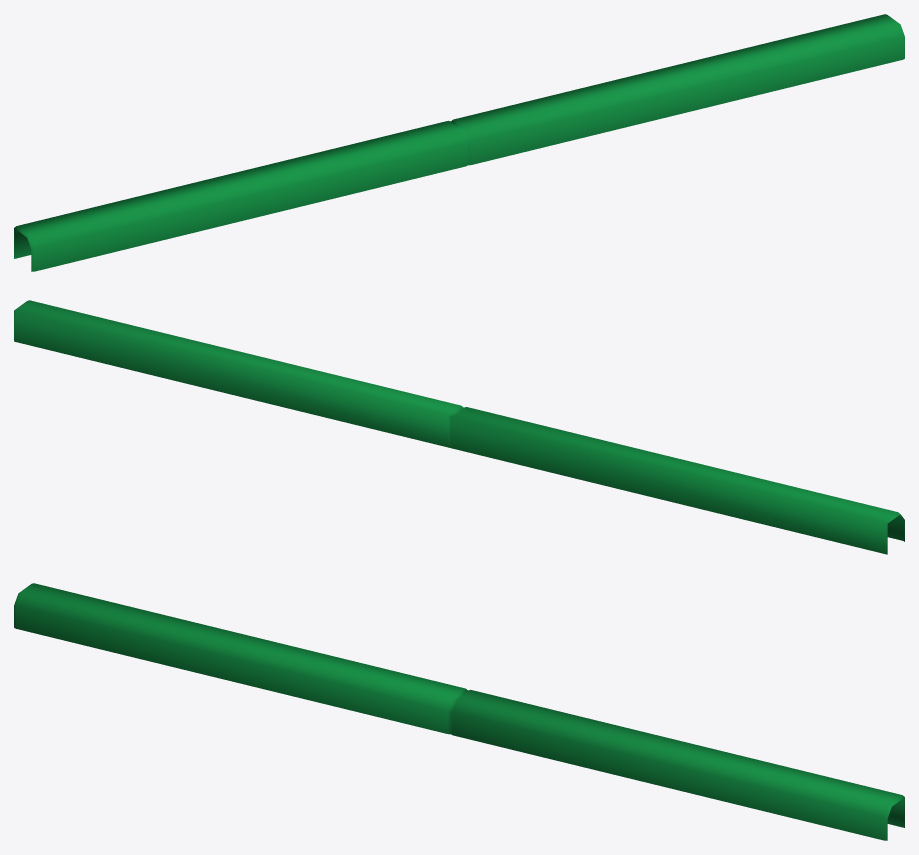
File: SM_Border_200.fbx
The picture shows the model from 3 angles, top to bottom: view 1: azimuth 30°, elevation 25°; view 2: azimuth 150°, elevation 25°; view 3: azimuth 330°, elevation 25°; orthographic projection.
Parts seen in each view (by area): view 1: SM_Border_200; view 2: SM_Border_200; view 3: SM_Border_200.
Boxes of the visible parts, x1,y1,x2,y2 form: SM_Border_200: [14, 14, 904, 271]; SM_Border_200: [14, 300, 904, 554]; SM_Border_200: [14, 583, 904, 840].
Size of the model in its own units: 200 by 7.09 by 7.16.
1 material, 1 textured.
